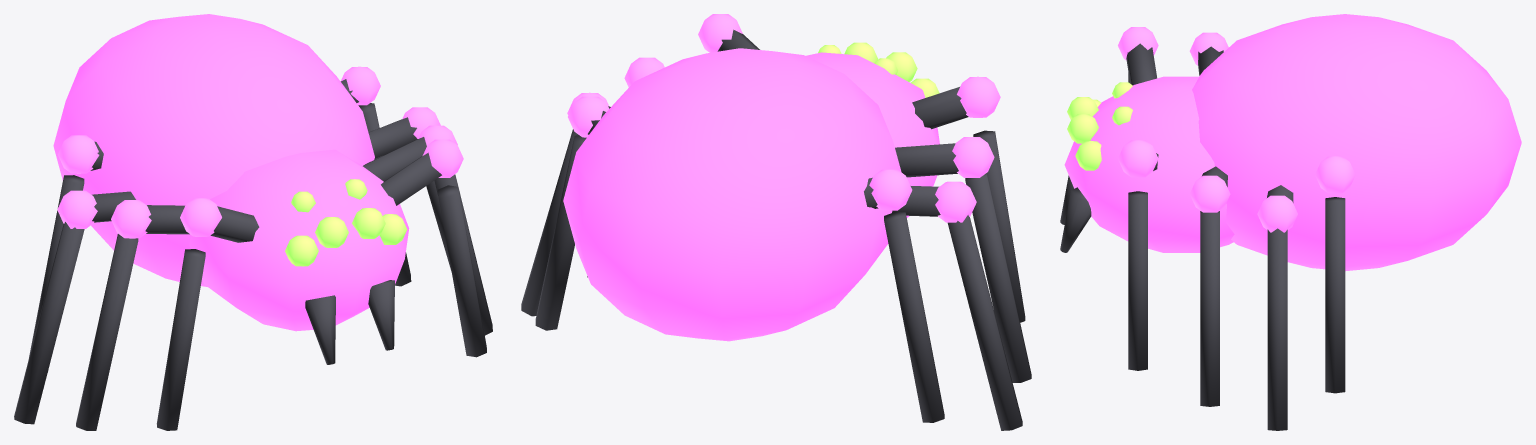
File: regex_spider.glb
3 views of the same model, side by side, from view 1: azimuth 30°, elevation 25°; view 2: azimuth 150°, elevation 25°; view 3: azimuth 270°, elevation 25° (orthographic). The views are drawn at different scales.
Parts seen in each view (by area): view 1: RegexSpider; view 2: RegexSpider; view 3: RegexSpider.
Boxes of the visible parts, <box> form: RegexSpider: <box>14,14,492,430</box>; RegexSpider: <box>521,14,1031,430</box>; RegexSpider: <box>1060,14,1521,430</box>.
Bounding box in the file's own units: 0.6378 × 0.401 × 0.5644.
